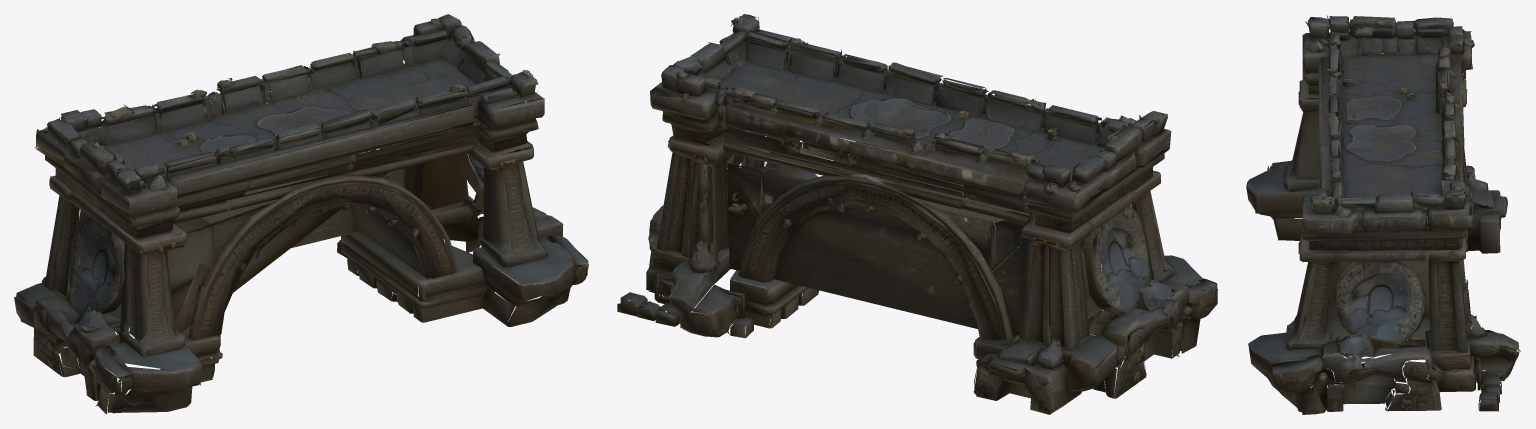
Rendered from ch3_massive_bridge_section_LOD1.glb.
The picture shows the model from 3 angles, left to right: view 1: azimuth 30°, elevation 25°; view 2: azimuth 150°, elevation 25°; view 3: azimuth 270°, elevation 25°; orthographic projection. The views are drawn at different scales.
Visible parts, largest first — view 1: tripo_node_51e6d6be-b1e7-401e-8ef0-a97a538cec37; view 2: tripo_node_51e6d6be-b1e7-401e-8ef0-a97a538cec37; view 3: tripo_node_51e6d6be-b1e7-401e-8ef0-a97a538cec37.
Boxes of the visible parts, x1,y1,x2,y2 form: tripo_node_51e6d6be-b1e7-401e-8ef0-a97a538cec37: (14, 14, 588, 414); tripo_node_51e6d6be-b1e7-401e-8ef0-a97a538cec37: (617, 14, 1217, 414); tripo_node_51e6d6be-b1e7-401e-8ef0-a97a538cec37: (1246, 15, 1520, 414).
Size of the model in its own units: 1 by 0.4706 by 0.5531.
1 material, 1 textured.
